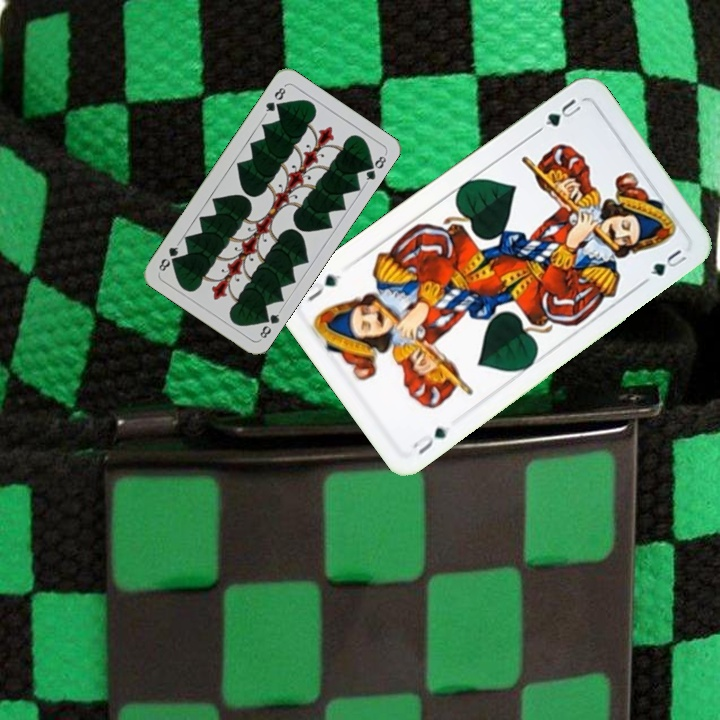G8: (255, 306, 284, 342), (261, 82, 288, 118)
GU: (540, 94, 585, 130), (408, 422, 449, 458)
